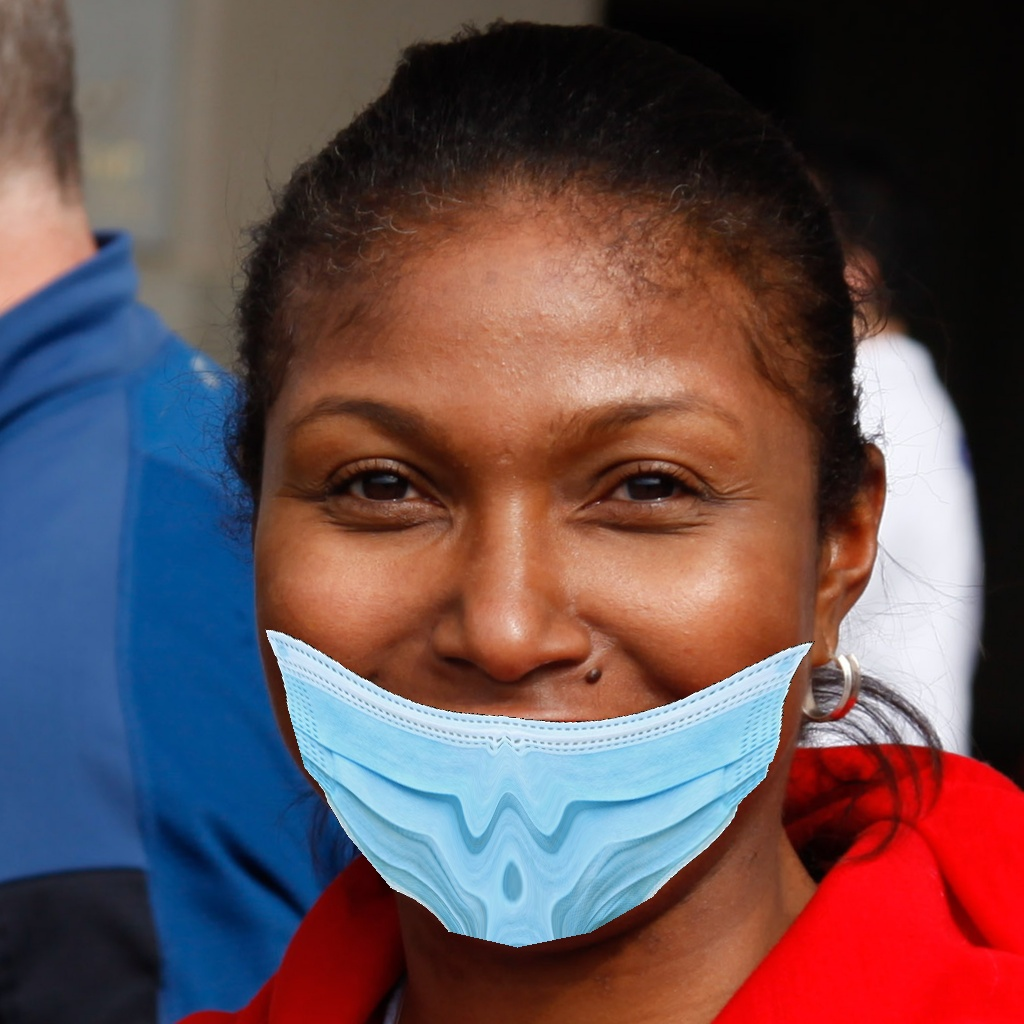mascarilla_mal_puesta: (294, 405, 789, 928)
